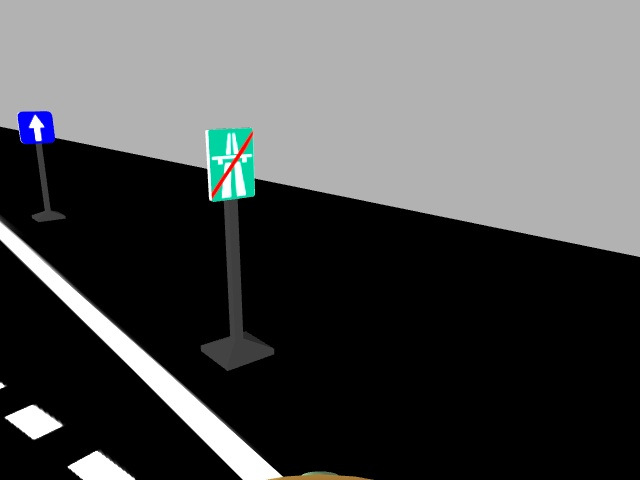HighwayExit: (202, 127, 256, 200)
OneWay: (15, 110, 55, 143)
